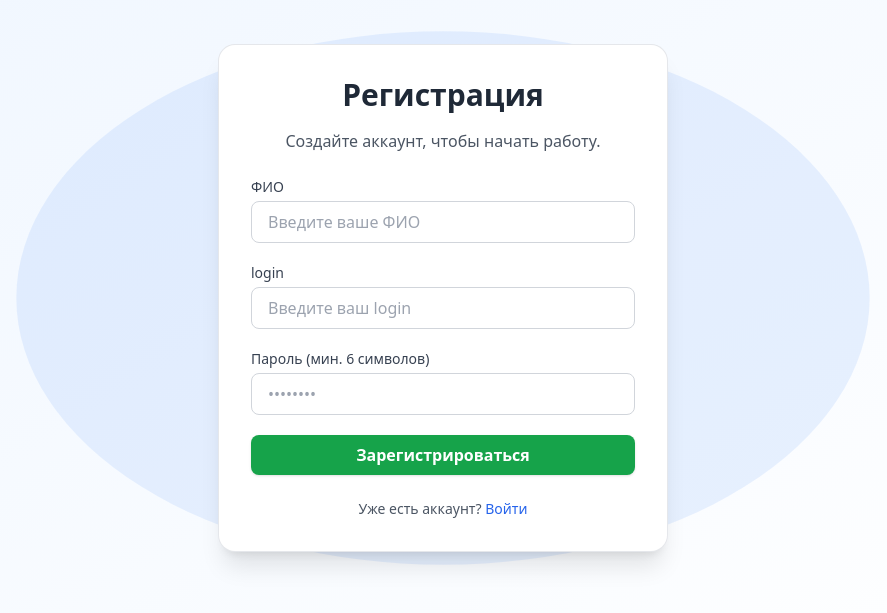
Test: Register integration flows › registration negative flow 0
Type "Иван" into the field with test id "register-full-name" at (443, 222), box [251,201,635,243]
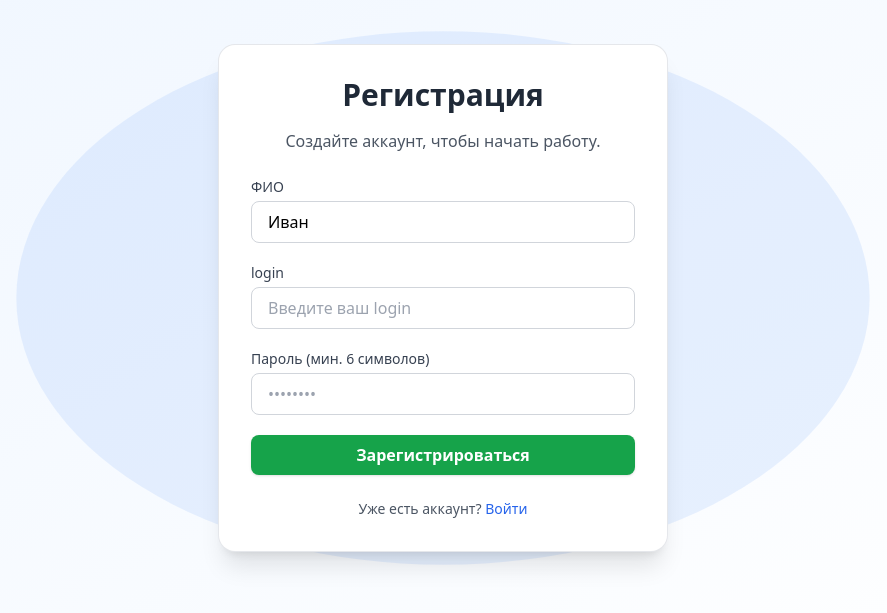
Type "ivan" into the field with test id "register-login" at (443, 308), box [251,287,635,329]
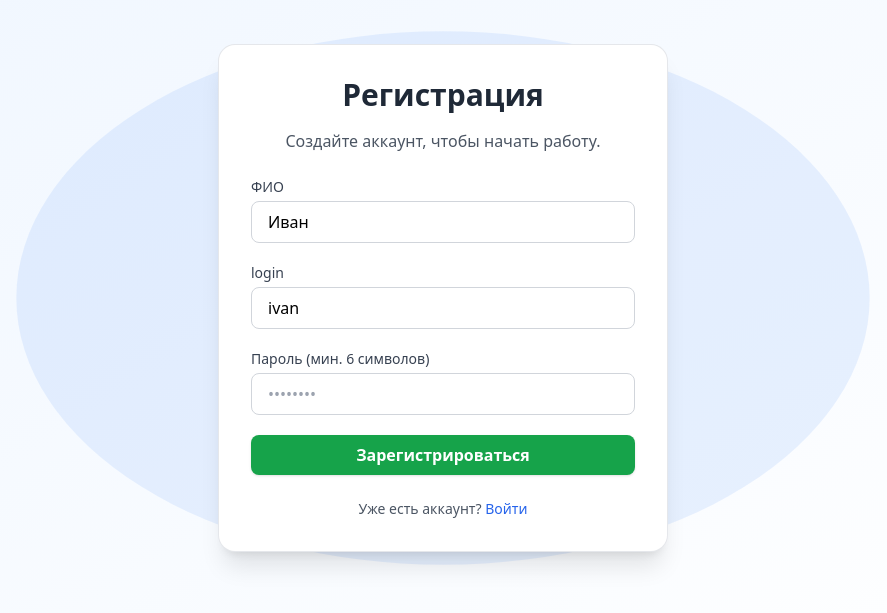
Type "123456" into the password field with test id "register-password" at (443, 394), box [251,373,635,415]
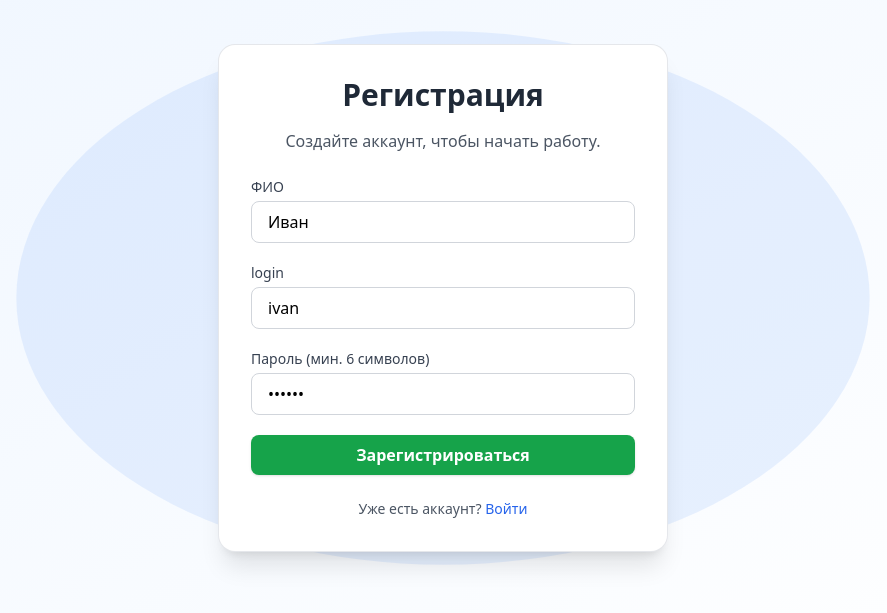
Click the button with test id "register-submit" at (443, 455), box [251,435,635,475]
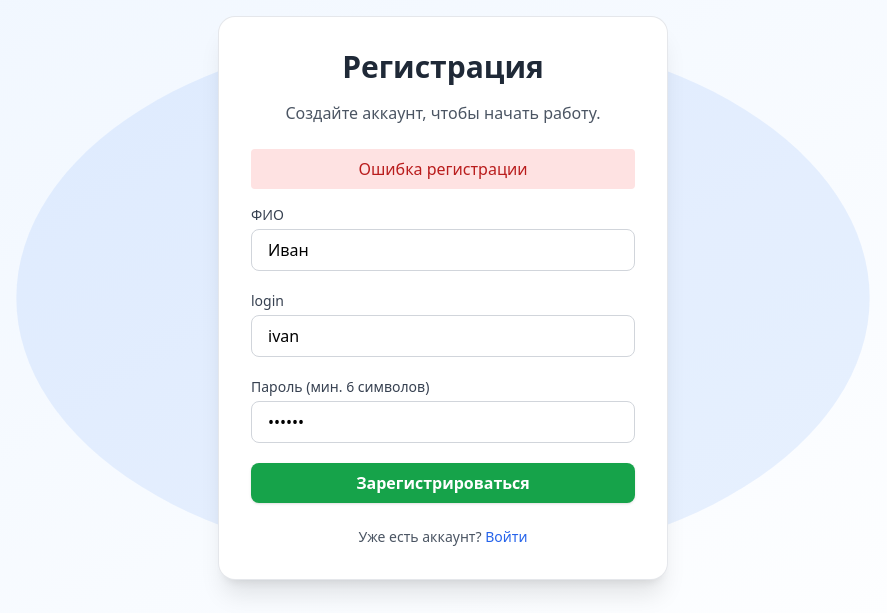
Now the text with test id "register-error" reads "Ошибка регистрации", box [358,158,528,180]
